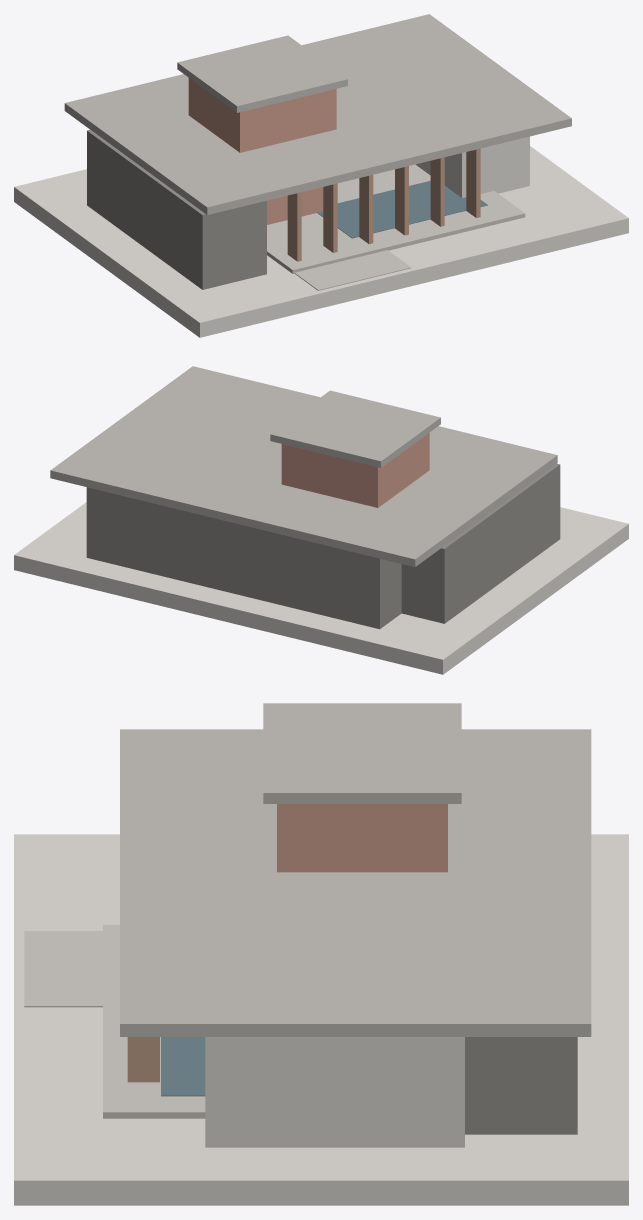
The model's file is oa-ponta-vermelha-pavilion-demo.glb.
3 renders of one model, top to bottom at view 1: azimuth 30°, elevation 25°; view 2: azimuth 150°, elevation 25°; view 3: azimuth 270°, elevation 25°, orthographic. The views are drawn at different scales.
Parts seen in each view (by area): view 1: Cantilever_Roof_Canopy, Plinth_Base_Slab, West_Archive_Loggia, Upper_Lantern_Cap, Sunken_Courtyard_Deck, Rammed_Earth_Core_Tower, East_Reading_Pavilion, Reflecting_Pool_Mirror, Entry_Threshold_Steps, Brise_Soleil_Fin_03, Brise_Soleil_Fin_06, Brise_Soleil_Fin_02 (+3 smaller); view 2: Cantilever_Roof_Canopy, Plinth_Base_Slab, North_Gallery_Wing, West_Archive_Loggia, Upper_Lantern_Cap, Rammed_Earth_Core_Tower; view 3: Cantilever_Roof_Canopy, Plinth_Base_Slab, East_Reading_Pavilion, Upper_Lantern_Cap, Rammed_Earth_Core_Tower, North_Gallery_Wing, Sunken_Courtyard_Deck, Entry_Threshold_Steps, Reflecting_Pool_Mirror, Brise_Soleil_Fin_06.
Boxes of the visible parts, left/top/right/bottom form: Cantilever_Roof_Canopy: left=64, top=14, right=571, bottom=214; Plinth_Base_Slab: left=14, top=146, right=628, bottom=337; West_Archive_Loggia: left=87, top=129, right=266, bottom=289; Upper_Lantern_Cap: left=177, top=35, right=347, bottom=112; Sunken_Courtyard_Deck: left=267, top=164, right=525, bottom=273; Rammed_Earth_Core_Tower: left=188, top=78, right=336, bottom=224; East_Reading_Pavilion: left=415, top=136, right=529, bottom=197; Reflecting_Pool_Mirror: left=317, top=180, right=487, bottom=238; Entry_Threshold_Steps: left=294, top=250, right=411, bottom=290; Brise_Soleil_Fin_03: left=359, top=175, right=373, bottom=244; Brise_Soleil_Fin_06: left=466, top=148, right=480, bottom=217; Brise_Soleil_Fin_02: left=323, top=183, right=337, bottom=252; Cantilever_Roof_Canopy: left=50, top=366, right=557, bottom=566; Plinth_Base_Slab: left=14, top=502, right=628, bottom=674; North_Gallery_Wing: left=86, top=487, right=401, bottom=629; West_Archive_Loggia: left=401, top=463, right=560, bottom=623; Upper_Lantern_Cap: left=270, top=390, right=440, bottom=467; Rammed_Earth_Core_Tower: left=281, top=433, right=429, bottom=507; Cantilever_Roof_Canopy: left=120, top=729, right=591, bottom=1036; Plinth_Base_Slab: left=14, top=834, right=628, bottom=1205; East_Reading_Pavilion: left=205, top=1037, right=464, bottom=1147; Upper_Lantern_Cap: left=263, top=703, right=461, bottom=803; Rammed_Earth_Core_Tower: left=277, top=804, right=447, bottom=872; North_Gallery_Wing: left=465, top=1037, right=577, bottom=1134; Sunken_Courtyard_Deck: left=103, top=924, right=205, bottom=1118; Entry_Threshold_Steps: left=24, top=931, right=102, bottom=1007; Reflecting_Pool_Mirror: left=161, top=1037, right=205, bottom=1096; Brise_Soleil_Fin_06: left=127, top=1037, right=159, bottom=1082.
Size of the model in its own units: 24 by 7.96 by 18.
